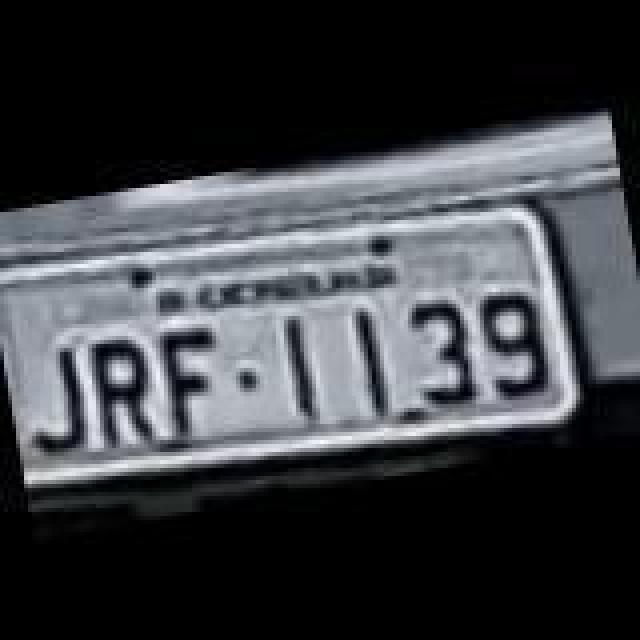1: (342, 298, 394, 414), (276, 310, 324, 418)
3: (398, 292, 482, 412)
9: (472, 276, 552, 396)
F: (150, 320, 226, 440)
J: (14, 340, 98, 460)
R: (80, 328, 160, 448)
